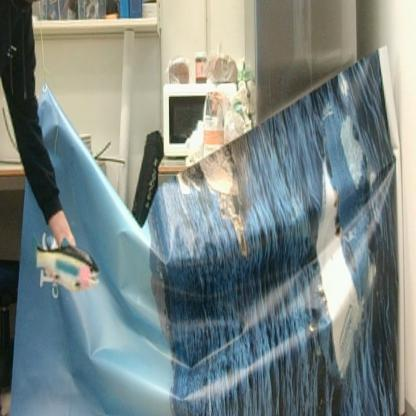rubberfish: (31, 234, 102, 296)
